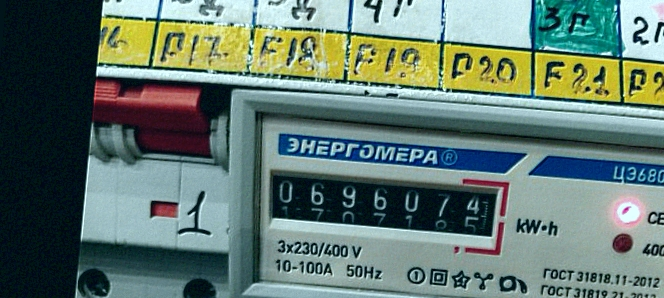0: (275, 178, 296, 205), (402, 187, 421, 214)
4: (464, 192, 482, 215)
5: (462, 215, 480, 236)
6: (370, 184, 390, 213), (307, 180, 327, 207)
7: (434, 191, 452, 218)
9: (339, 182, 357, 209)
screen: (254, 156, 513, 260)
